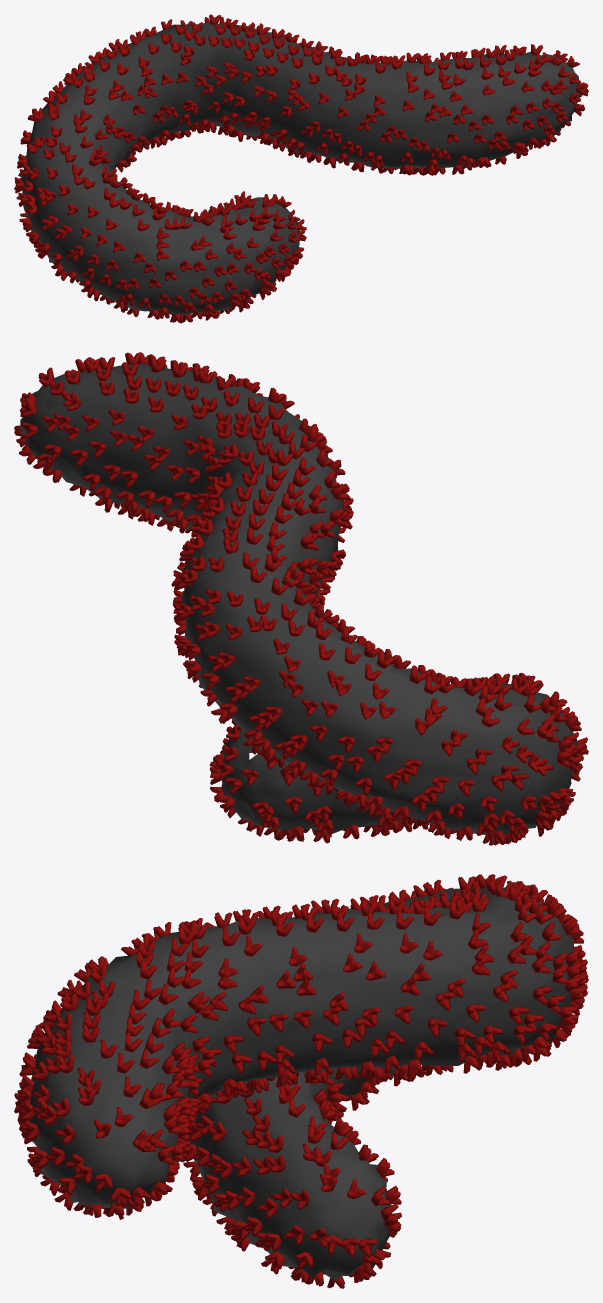
3 renders of one model, top to bottom at view 1: azimuth 30°, elevation 25°; view 2: azimuth 150°, elevation 25°; view 3: azimuth 270°, elevation 25°, orthographic. The views are drawn at different scales.
Parts seen in each view (by area): view 1: object 1; view 2: object 1; view 3: object 1.
Part boxes in pixels (x1,y1,x2,y2): object 1: (21,21,580,315); object 1: (20,364,577,835); object 1: (29,887,573,1280).
Bounding box in the file's own units: 6.63 × 3.43 × 4.49.
